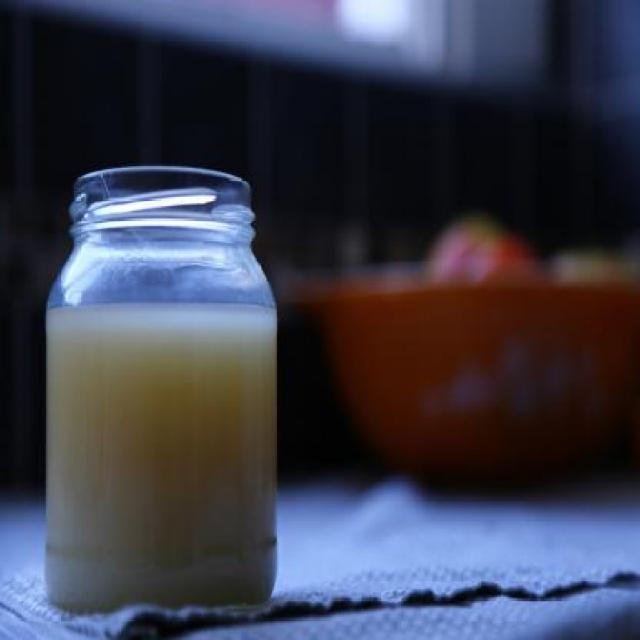Milk: (31, 137, 282, 631)
